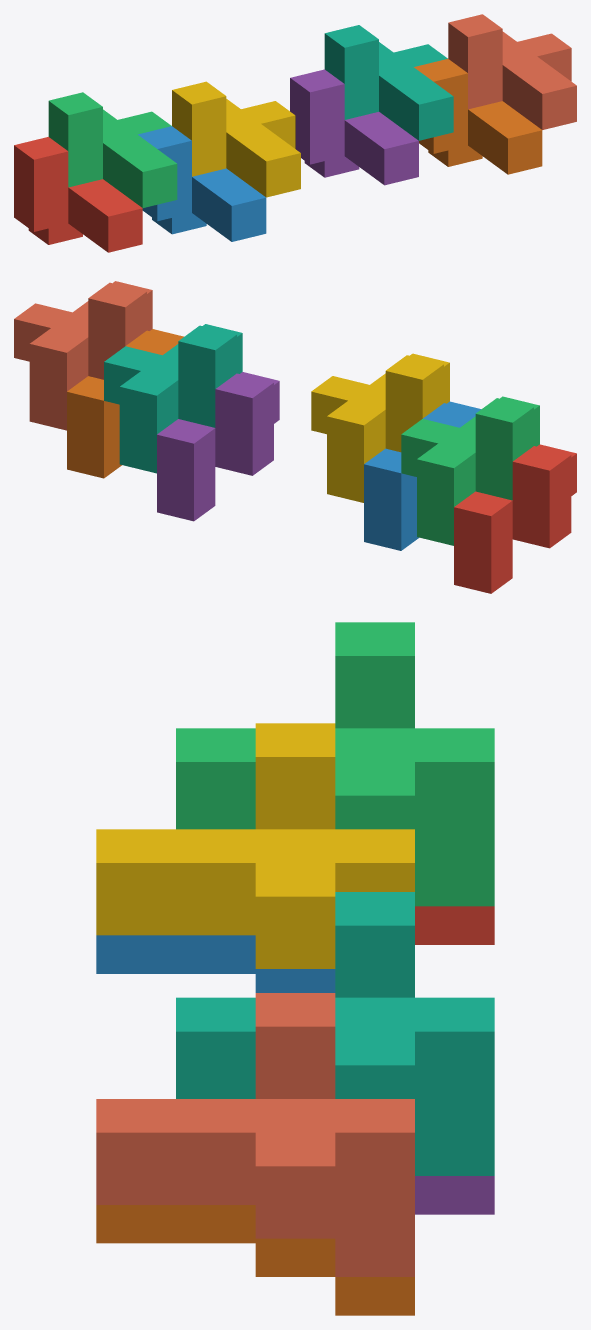
File: tiling.obj
3 views of the same model, one above another, from view 1: azimuth 30°, elevation 25°; view 2: azimuth 150°, elevation 25°; view 3: azimuth 270°, elevation 25° (orthographic). The views are drawn at different scales.
Parts seen in each view (by area): view 1: copy_1_domain_4, copy_1_domain_8, copy_1_domain_1, copy_1_domain_7, copy_1_domain_3, copy_1_domain_5, copy_1_domain_2, copy_1_domain_6; view 2: copy_1_domain_7, copy_1_domain_3, copy_1_domain_8, copy_1_domain_1, copy_1_domain_4, copy_1_domain_5, copy_1_domain_2, copy_1_domain_6; view 3: copy_1_domain_8, copy_1_domain_4, copy_1_domain_3, copy_1_domain_7, copy_1_domain_6, copy_1_domain_2, copy_1_domain_1, copy_1_domain_5.
Boxes of the visible parts, x1,y1,x2,y2 form: copy_1_domain_4: [172, 81, 300, 197]; copy_1_domain_8: [448, 14, 576, 129]; copy_1_domain_1: [14, 137, 142, 252]; copy_1_domain_7: [324, 25, 453, 140]; copy_1_domain_3: [48, 92, 177, 207]; copy_1_domain_5: [290, 69, 418, 185]; copy_1_domain_2: [138, 126, 266, 241]; copy_1_domain_6: [414, 59, 542, 174]; copy_1_domain_7: [104, 324, 242, 473]; copy_1_domain_3: [401, 396, 539, 545]; copy_1_domain_8: [14, 281, 152, 430]; copy_1_domain_1: [454, 444, 576, 593]; copy_1_domain_4: [311, 353, 449, 502]; copy_1_domain_5: [157, 372, 279, 521]; copy_1_domain_2: [364, 401, 481, 550]; copy_1_domain_6: [67, 329, 183, 478]; copy_1_domain_8: [96, 993, 414, 1276]; copy_1_domain_4: [96, 723, 414, 968]; copy_1_domain_3: [176, 622, 494, 906]; copy_1_domain_7: [176, 892, 494, 1175]; copy_1_domain_6: [96, 1205, 414, 1315]; copy_1_domain_2: [96, 935, 335, 992]; copy_1_domain_1: [415, 906, 494, 944]; copy_1_domain_5: [415, 1176, 494, 1214].
Bounding box in the file's own units: 15 × 4 × 5.
